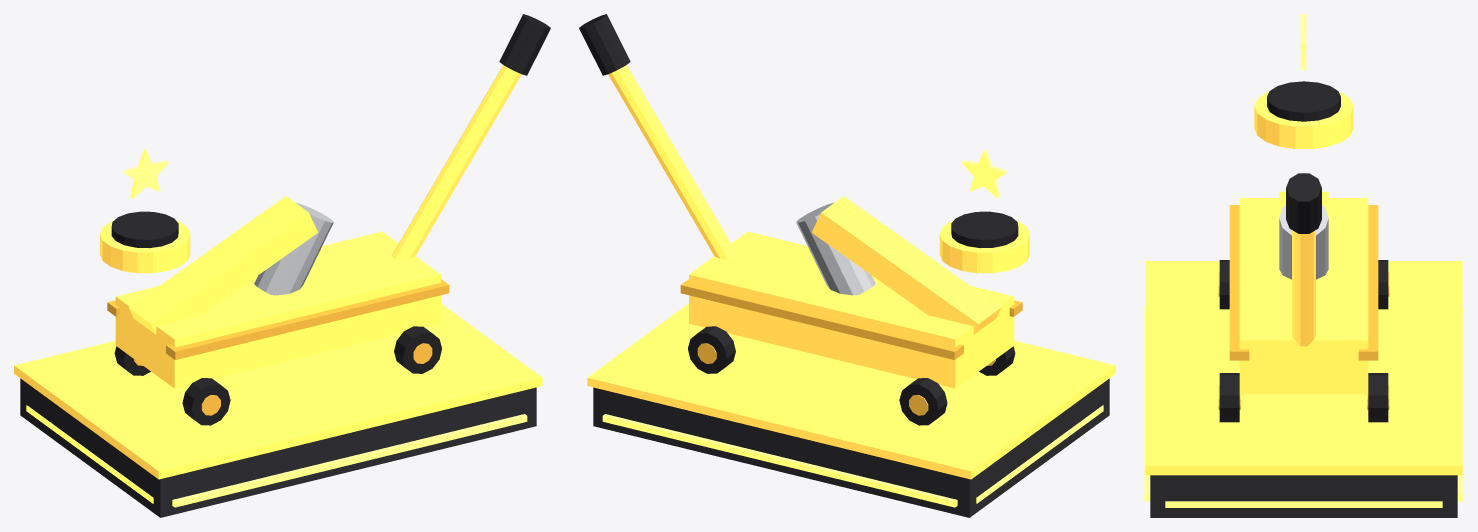
The model's file is login_m01_w1.glb.
3 renders of one model, left to right at view 1: azimuth 30°, elevation 25°; view 2: azimuth 150°, elevation 25°; view 3: azimuth 270°, elevation 25°, orthographic. The views are drawn at different scales.
Visible parts, largest first — view 1: login_m01_w1; view 2: login_m01_w1; view 3: login_m01_w1.
Boxes of the visible parts, x1,y1,x2,y2 form: login_m01_w1: (14,14,550,517); login_m01_w1: (579,14,1115,517); login_m01_w1: (1144,14,1463,517).
Size of the model in its own units: 1.18 by 0.8376 by 0.644.
